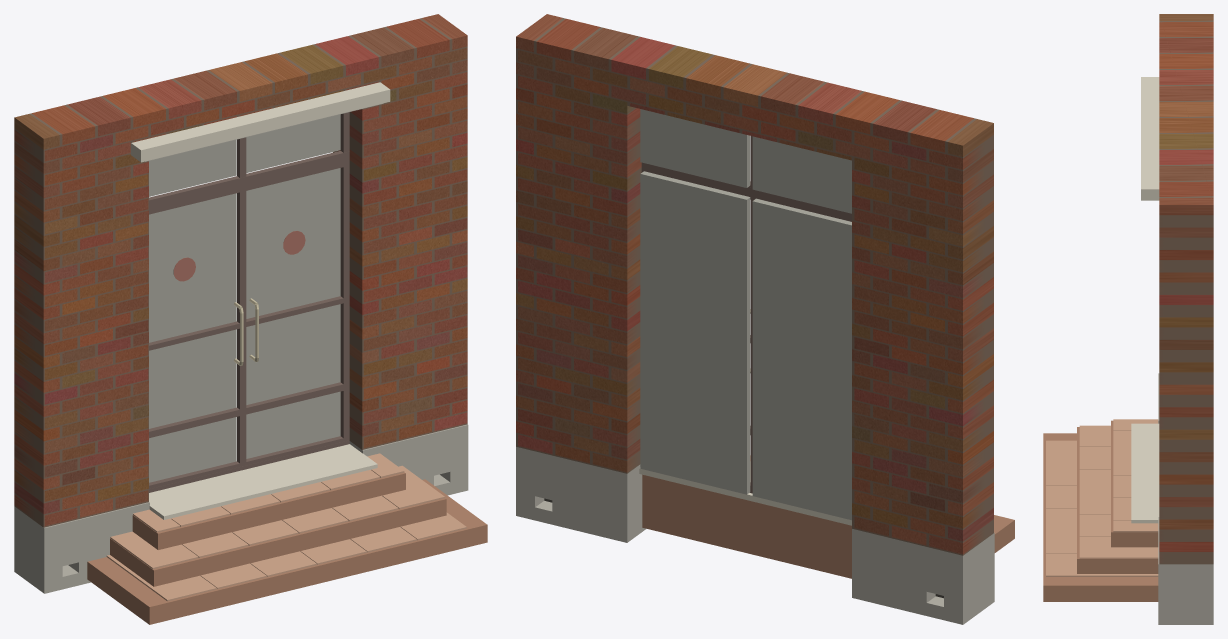
The model's file is railway-hospital-brick-door-and-steps-far.glb.
3 views of the same model, side by side, from view 1: azimuth 30°, elevation 25°; view 2: azimuth 150°, elevation 25°; view 3: azimuth 270°, elevation 25° (orthographic). The views are drawn at different scales.
Visible parts, largest first — view 1: 上海铁道医院虬江路红砖长楼玻璃门与三级踏步; view 2: 上海铁道医院虬江路红砖长楼玻璃门与三级踏步; view 3: 上海铁道医院虬江路红砖长楼玻璃门与三级踏步.
Boxes of the visible parts, box(x1,y1,x2,y2) form: 上海铁道医院虬江路红砖长楼玻璃门与三级踏步: box(14, 14, 487, 624); 上海铁道医院虬江路红砖长楼玻璃门与三级踏步: box(516, 14, 1014, 624); 上海铁道医院虬江路红砖长楼玻璃门与三级踏步: box(1043, 14, 1213, 624).
Size of the model in its own units: 2.84 by 2.91 by 1.07.
Materials: 10 (1 with a texture image).
